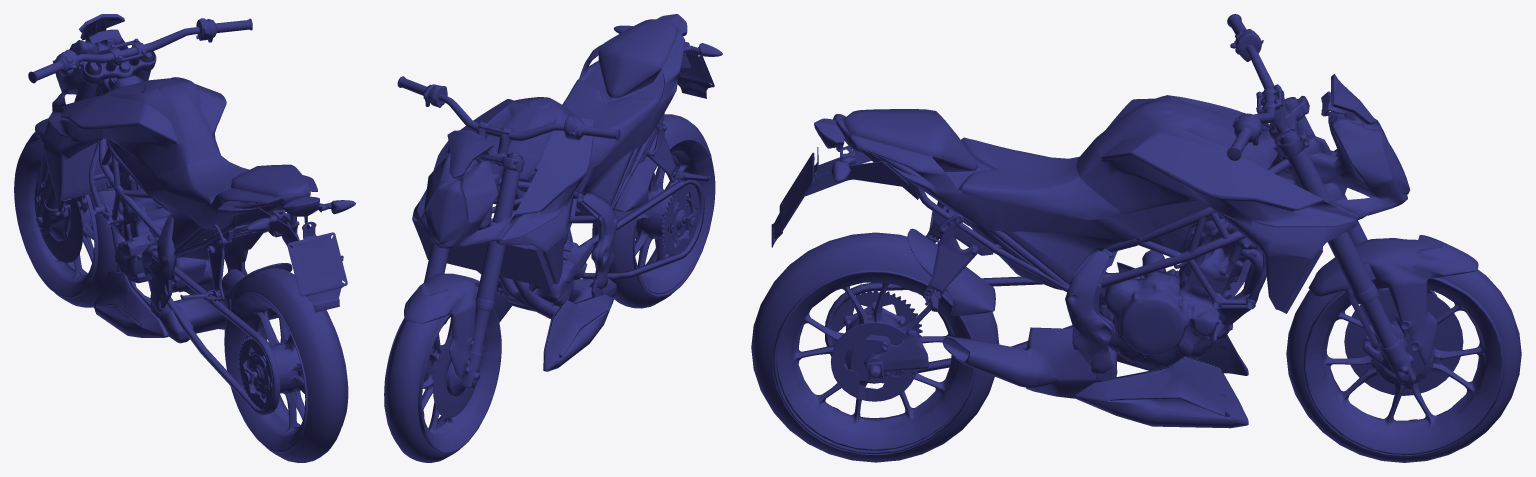
Rendered from DefinitivoEICMA_NoText.fbx.
The picture shows the model from 3 angles, left to right: view 1: azimuth 30°, elevation 25°; view 2: azimuth 150°, elevation 25°; view 3: azimuth 270°, elevation 25°; orthographic projection. The views are drawn at different scales.
Parts seen in each view (by area): view 1: Carena_low, Ruote_copertoni_low, Ruota_cerchione_dietro_low, Ruota_cerchione_avanti_low, Struttura_pezzo_1_low, Motore_parte_1_low, Struttura_tubi_low, Instrument_panel_low, Freni_parte_1_low, Ammortizzatore_avanti_parte_2_low, Exhaust_system_low, Ammortizzatore_avanti_parte_1_low (+9 smaller); view 2: Carena_low, Ruote_copertoni_low, Ruota_cerchione_dietro_low, Ruota_cerchione_avanti_low, Ammortizzatore_avanti_parte_2_low, Radiatore_low, Freni_parte_1_low, Struttura_pezzo_1_low, Instrument_panel_low, Exhaust_system_low, Motore_parte_1_low, DA_SISTEMARE_DIETRO (+10 smaller); view 3: Carena_low, Ruote_copertoni_low, Ruota_cerchione_dietro_low, Ruota_cerchione_avanti_low, Motore_parte_1_low, Freni_parte_1_low, Exhaust_system_low, Ammortizzatore_avanti_parte_2_low, Struttura_tubi_low, Struttura_pezzo_1_low, DA_SISTEMARE_DIETRO, Struttura_pezzo_2_low (+9 smaller).
Boxes of the visible parts, <box> form: Carena_low: <box>35,14,317,337</box>; Ruote_copertoni_low: <box>23,132,347,462</box>; Ruota_cerchione_dietro_low: <box>224,292,348,452</box>; Ruota_cerchione_avanti_low: <box>14,139,98,298</box>; Struttura_pezzo_1_low: <box>149,194,347,312</box>; Motore_parte_1_low: <box>105,162,212,292</box>; Struttura_tubi_low: <box>89,90,310,256</box>; Instrument_panel_low: <box>108,73,280,415</box>; Freni_parte_1_low: <box>34,173,304,409</box>; Ammortizzatore_avanti_parte_2_low: <box>37,27,199,233</box>; Exhaust_system_low: <box>111,190,278,343</box>; Ammortizzatore_avanti_parte_1_low: <box>77,38,156,84</box>; Carena_low: <box>404,18,685,378</box>; Ruote_copertoni_low: <box>384,114,713,462</box>; Ruota_cerchione_dietro_low: <box>592,138,715,297</box>; Ruota_cerchione_avanti_low: <box>384,295,501,453</box>; Ammortizzatore_avanti_parte_2_low: <box>424,94,564,388</box>; Radiatore_low: <box>413,218,553,289</box>; Freni_parte_1_low: <box>433,184,699,418</box>; Struttura_pezzo_1_low: <box>511,14,714,216</box>; Instrument_panel_low: <box>477,159,704,280</box>; Exhaust_system_low: <box>499,229,616,318</box>; Motore_parte_1_low: <box>496,210,578,311</box>; DA_SISTEMARE_DIETRO: <box>614,139,656,212</box>; Carena_low: <box>836,74,1478,428</box>; Ruote_copertoni_low: <box>751,232,1521,462</box>; Ruota_cerchione_dietro_low: <box>772,270,976,454</box>; Ruota_cerchione_avanti_low: <box>1303,276,1504,455</box>; Motore_parte_1_low: <box>1099,219,1257,368</box>; Freni_parte_1_low: <box>831,289,1463,401</box>; Exhaust_system_low: <box>942,247,1262,398</box>; Ammortizzatore_avanti_parte_2_low: <box>1246,45,1416,386</box>; Struttura_tubi_low: <box>853,141,1294,309</box>; Struttura_pezzo_1_low: <box>771,118,1141,305</box>; DA_SISTEMARE_DIETRO: <box>907,228,995,316</box>; Struttura_pezzo_2_low: <box>805,138,993,305</box>.
Bounding box in the file's own units: 8176 × 11029 × 19830.
